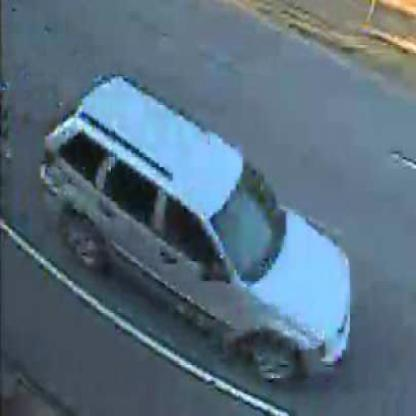car: (32, 76, 352, 381)
